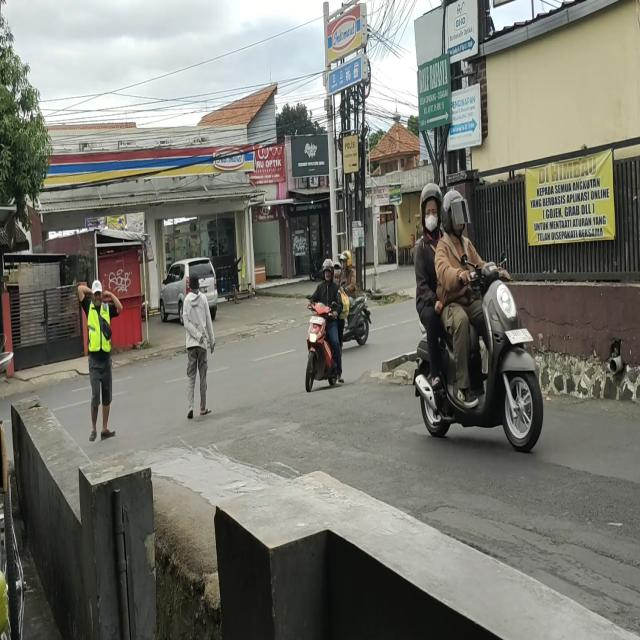helmet: (420, 187, 447, 237), (443, 191, 470, 234), (322, 260, 335, 282), (340, 252, 352, 274)
